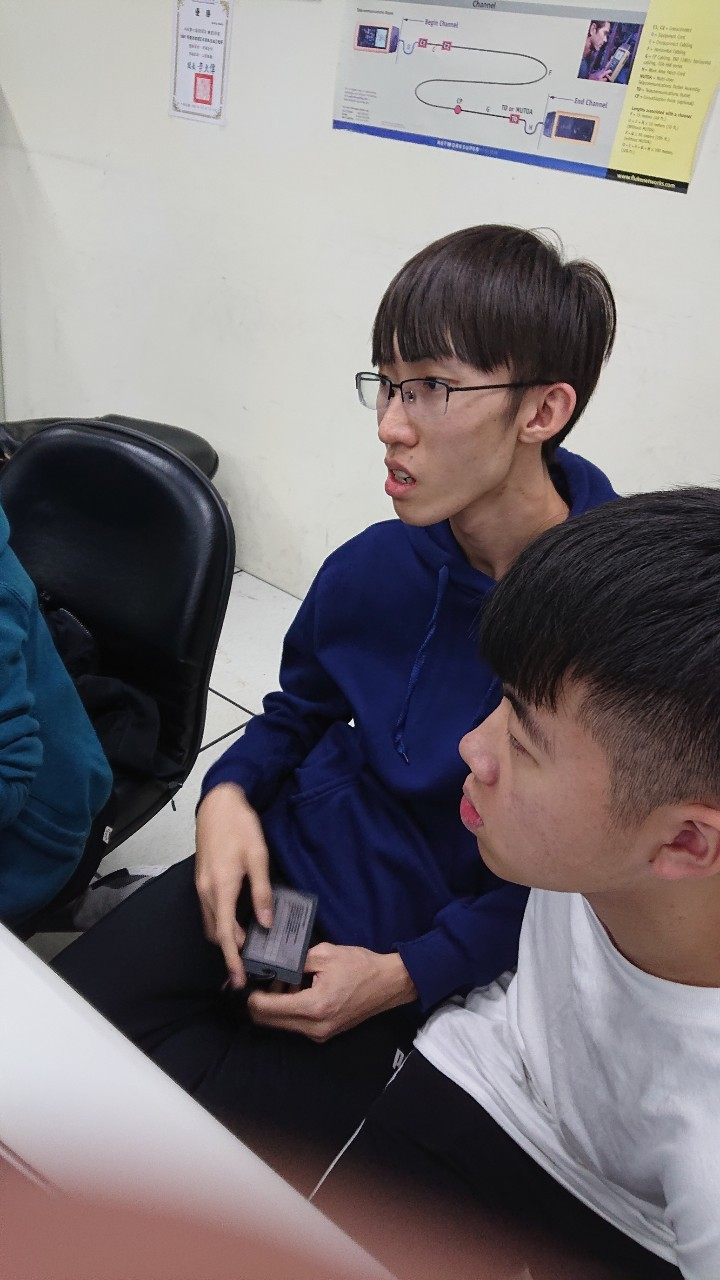people: (305, 219, 618, 1131), (458, 492, 720, 1280)
